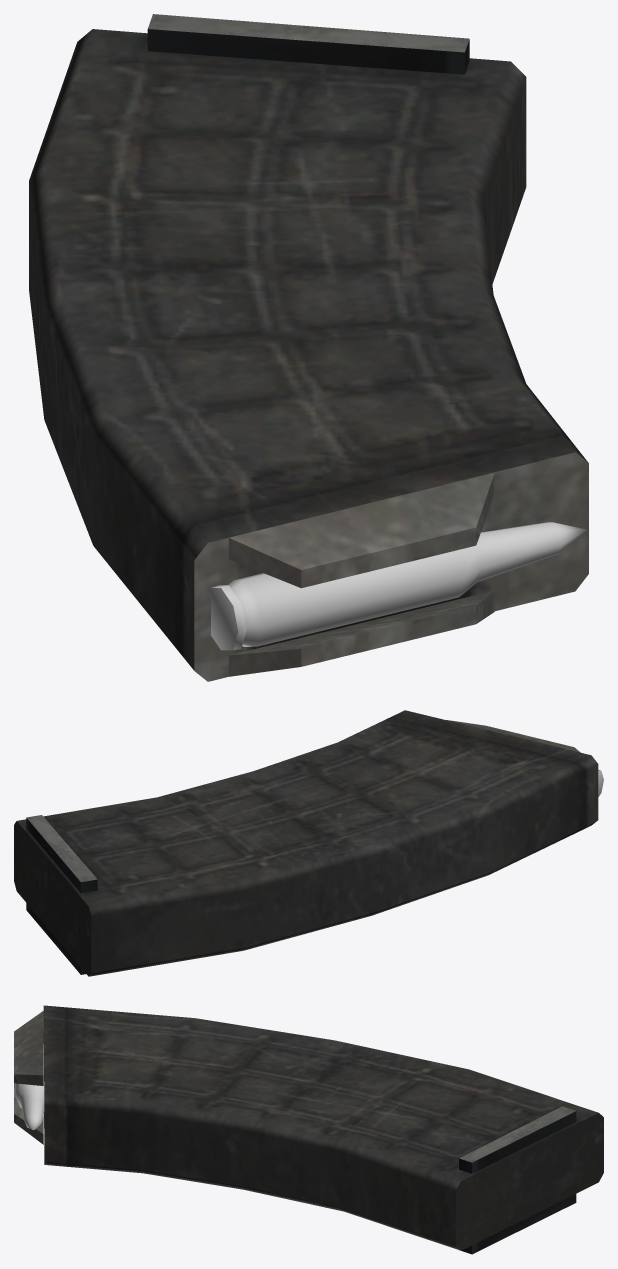
File: t6_attach_mag_type95_view_LOD0.obj
The picture shows the model from 3 angles, top to bottom: view 1: azimuth 30°, elevation 25°; view 2: azimuth 150°, elevation 25°; view 3: azimuth 270°, elevation 25°; orthographic projection. The views are drawn at different scales.
Parts seen in each view (by area): view 1: mtl_t6_wpn_ar_type95_camo2, mtl_t6_attach_bullet; view 2: mtl_t6_wpn_ar_type95_camo2; view 3: mtl_t6_wpn_ar_type95_camo2, mtl_t6_attach_bullet.
Boxes of the visible parts, bbox=[...] form: mtl_t6_wpn_ar_type95_camo2: bbox=[29, 14, 588, 681]; mtl_t6_attach_bullet: bbox=[211, 522, 587, 650]; mtl_t6_wpn_ar_type95_camo2: bbox=[14, 710, 598, 976]; mtl_t6_wpn_ar_type95_camo2: bbox=[14, 1005, 603, 1254]; mtl_t6_attach_bullet: bbox=[15, 1044, 44, 1130].
Bounding box in the file's own units: 15.83 × 3.73 × 21.75.
